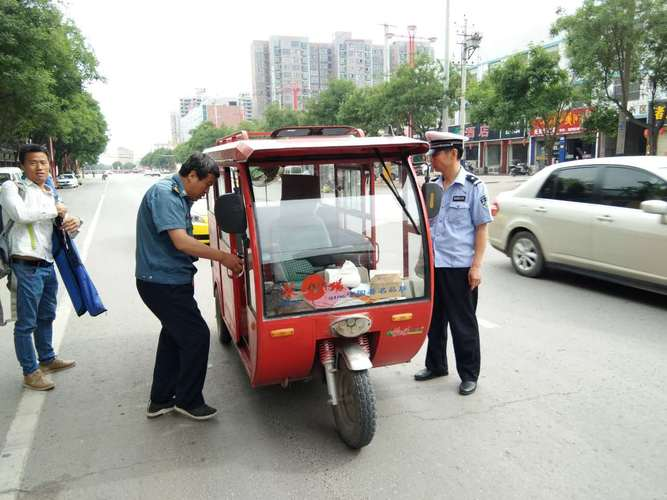driver: (153, 125, 225, 412)
only_driver: (116, 89, 429, 446)
